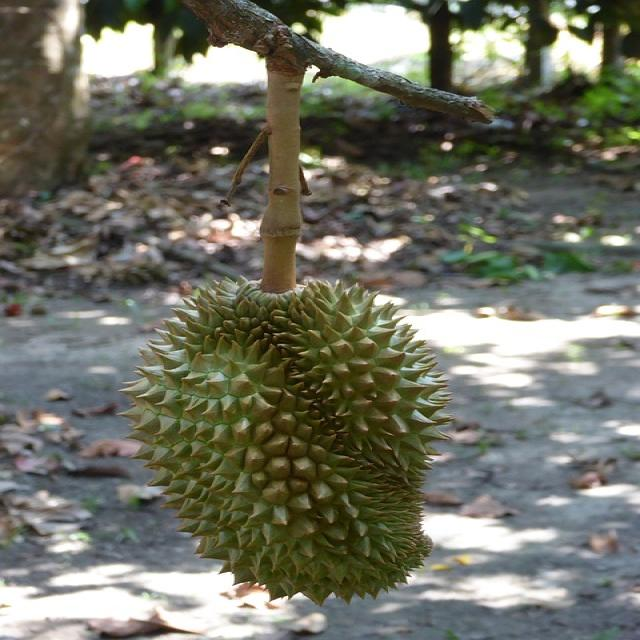immature: (128, 262, 450, 610)
